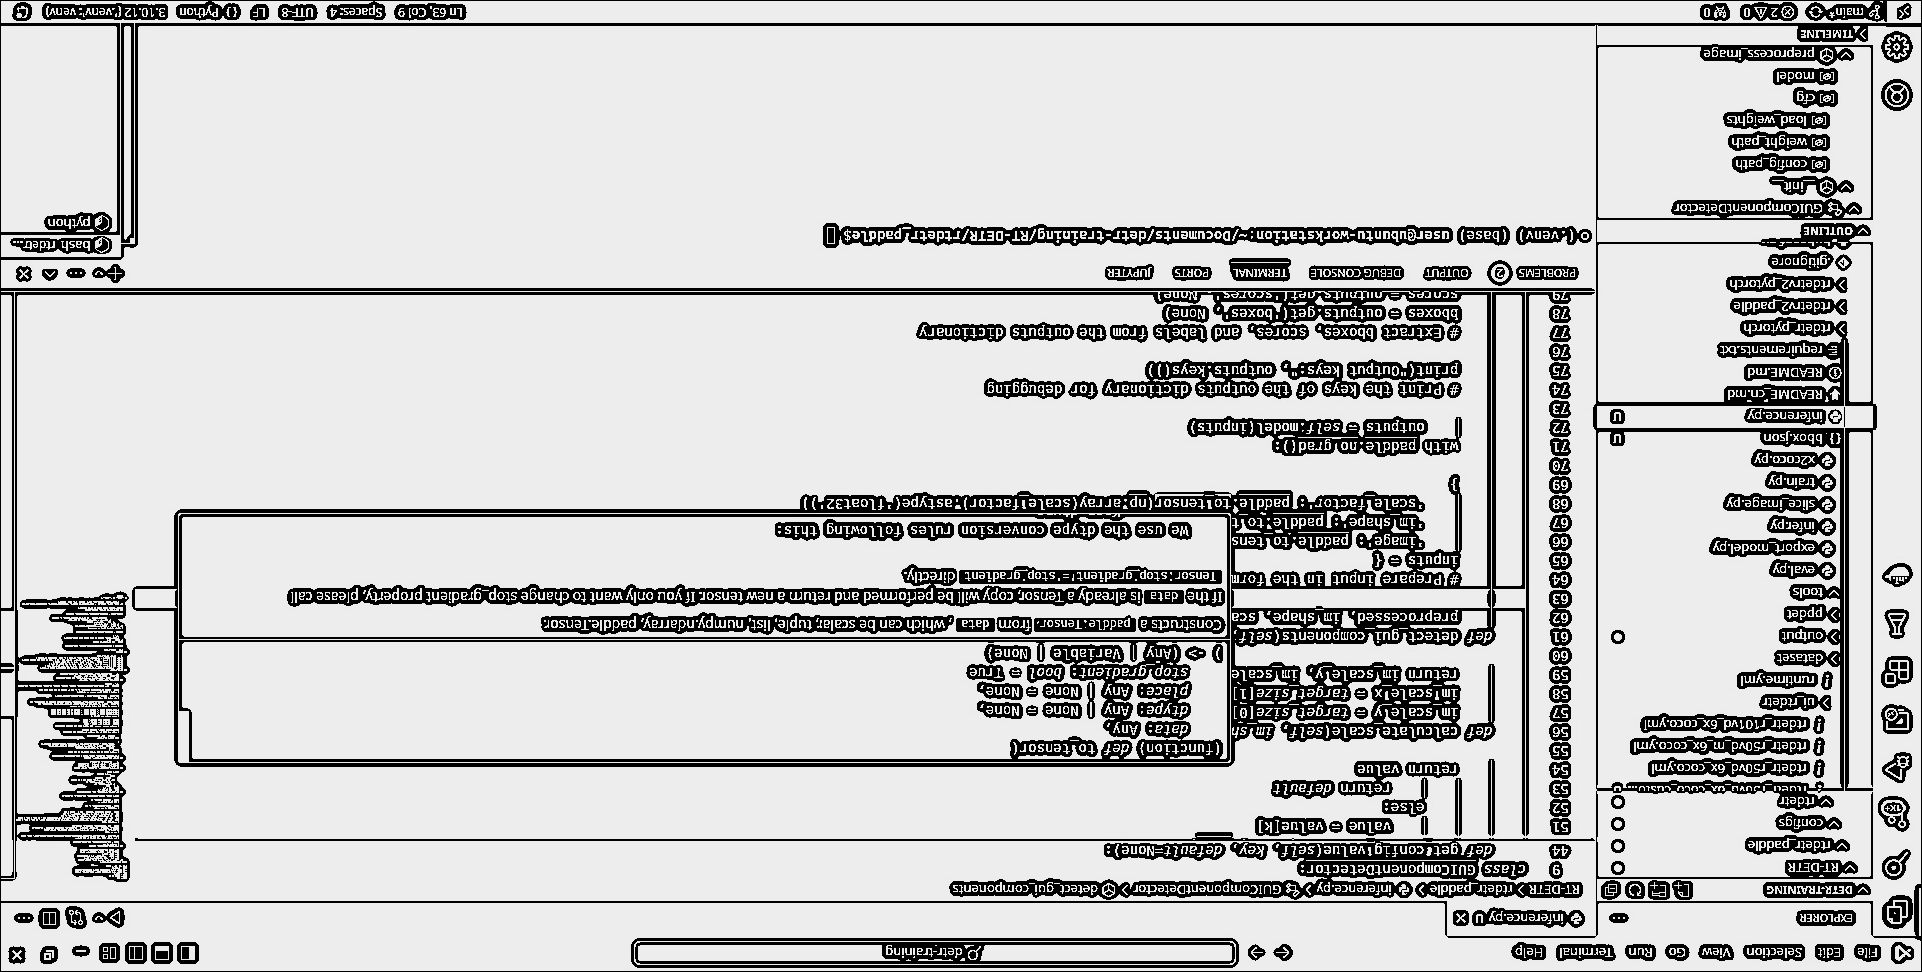Accounts: (1882, 77, 1917, 114)
Activity Bar: (1875, 24, 1922, 941)
Close: (6, 947, 29, 970)
Editor: (2, 286, 1597, 943)
Explorer: (1877, 888, 1915, 937)
Extensions: (1885, 656, 1917, 693)
Manage: (1884, 33, 1915, 64)
Maximize: (40, 943, 59, 971)
Minimize: (67, 948, 95, 967)
Panel: (2, 21, 1595, 296)
Primary Side Bar: (1594, 24, 1881, 943)
Run and Debug: (1884, 750, 1917, 789)
Search: (1884, 846, 1917, 888)
Search Bar: (628, 939, 1245, 970)
Source Control: (1882, 792, 1917, 839)
Status Bar: (2, 2, 1922, 29)
Testing: (1884, 607, 1918, 645)
Top Bar: (2, 934, 1921, 972)
